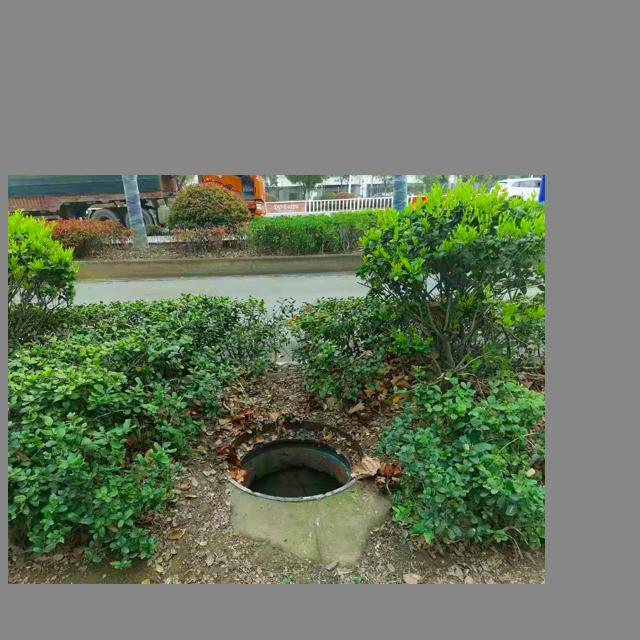lose: (224, 417, 362, 501)
